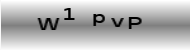1: (62, 6, 76, 21)
P: (128, 15, 143, 30)
W: (36, 16, 60, 31)
p: (92, 13, 105, 27)
v: (109, 16, 125, 28)
